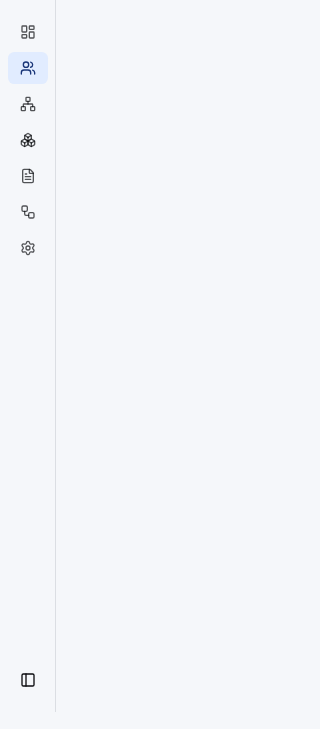
Test: SidebarNav › keeps the sidebar usable when localStorage is blocked
Click the button named "Expand sidebar": x=28, y=680 [8, 660, 48, 700]
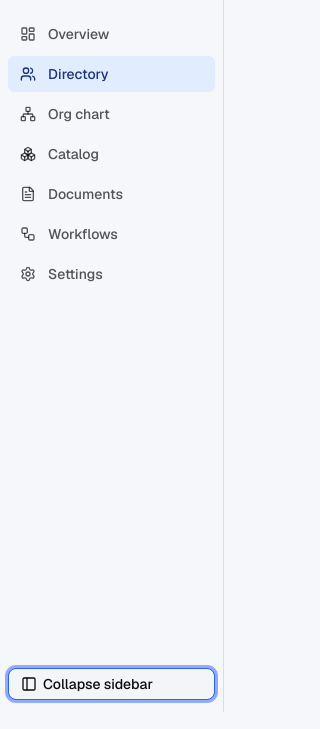
Expected: the button "Collapse sidebar" is expanded, [8, 668, 215, 700]
